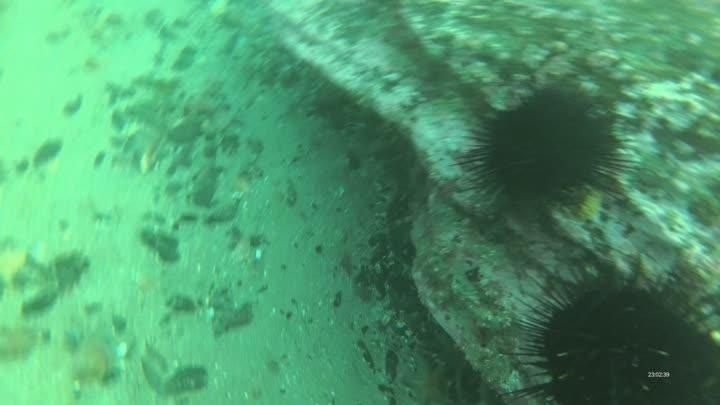echinus: (509, 264, 715, 405), (457, 76, 630, 224)
starfish: (400, 357, 456, 405)
